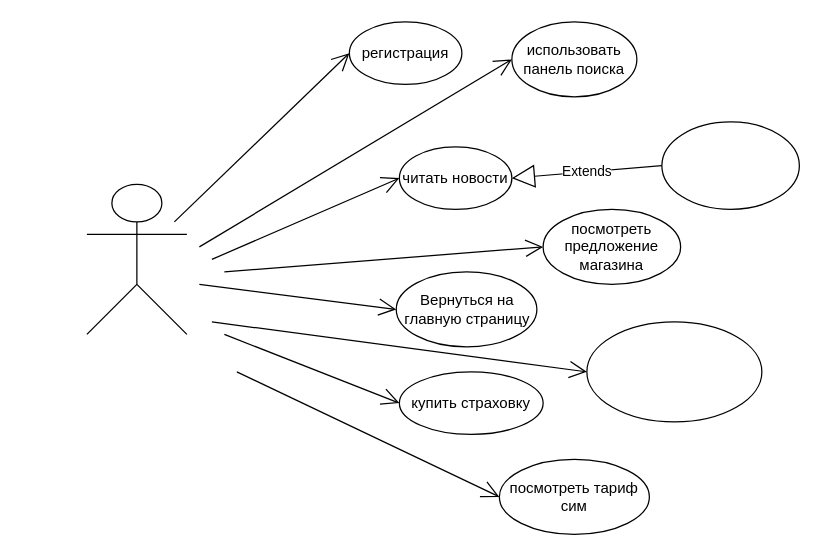
This 821x556 diagram has some shape labels left out. Each missing label, with the centre of its shape:
"делиться новостями в твиттере" belongs at (730,165).
"неавторизованный пользователь" belongs at (136,258).
"просмотреть список новостей по определенному тегу" belongs at (674,371).
